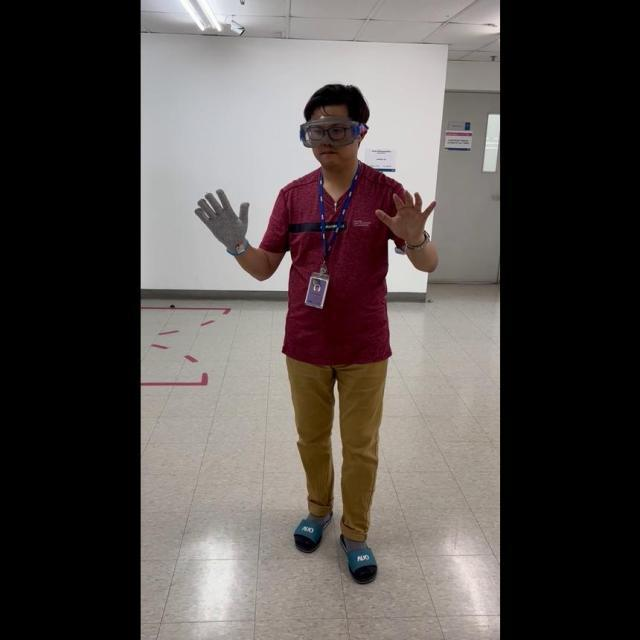bare_hand: (373, 183, 437, 245)
gloved_hand: (193, 185, 250, 255)
